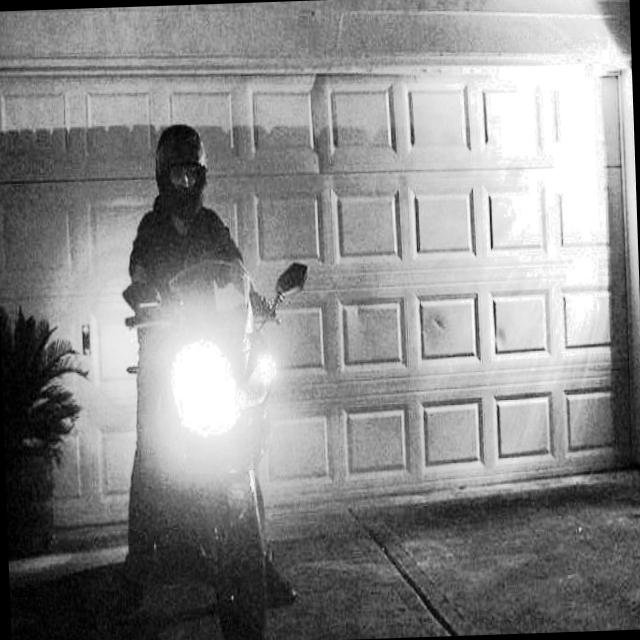Motorcycle: (97, 251, 330, 640)
Person: (90, 96, 295, 625)
